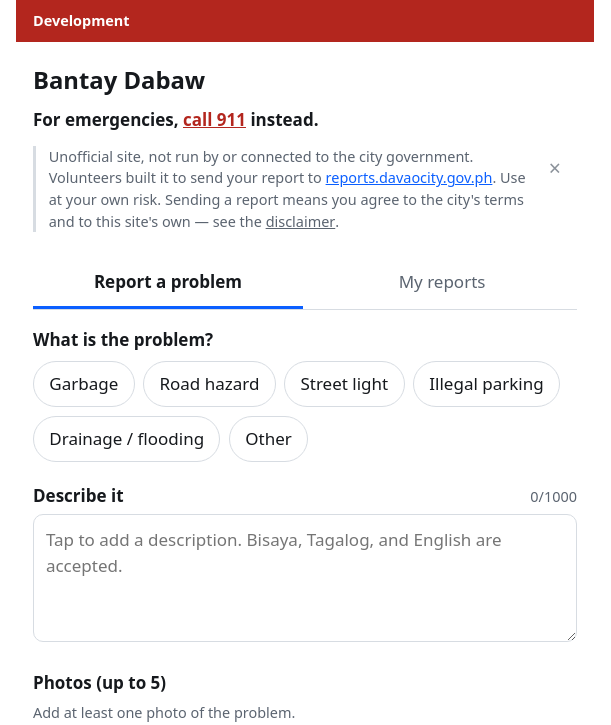
it: reloading the list › draws the first page of a long list
The image size is (611, 725).
Click the tab "My reports".
click(442, 283)  # box [307,258,577,309]
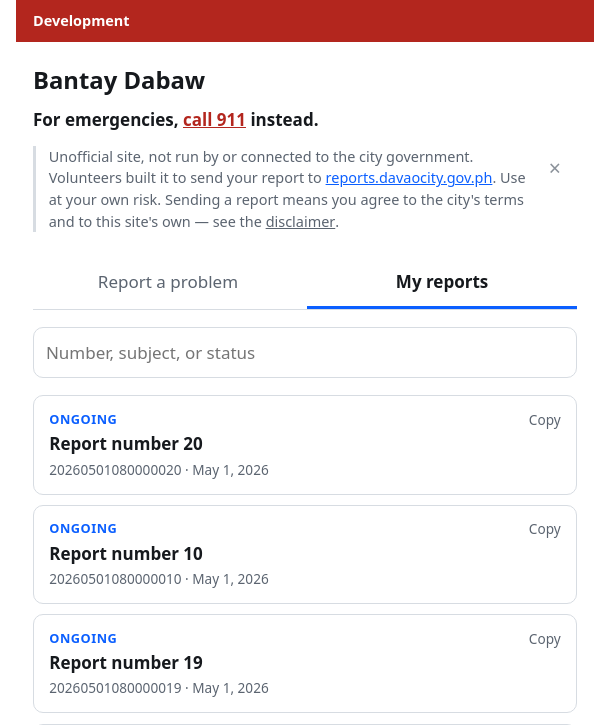
Expected: the number of list items with class "report" is 20
